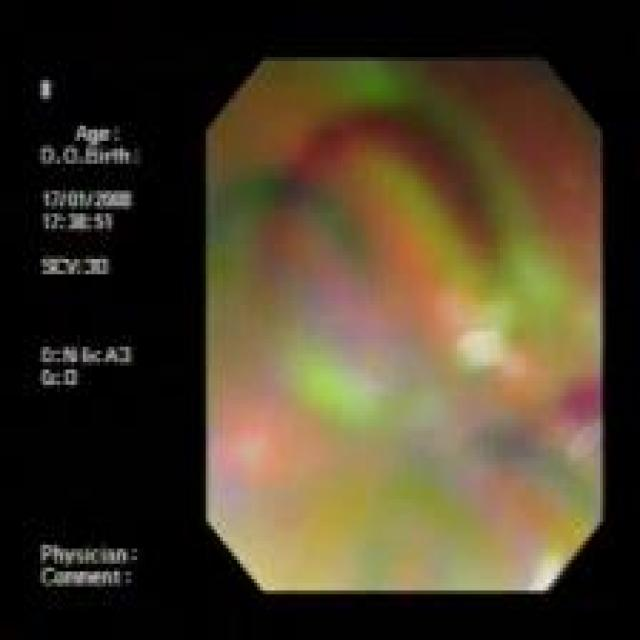color misalignment: (207, 57, 602, 590), (37, 77, 144, 591)
